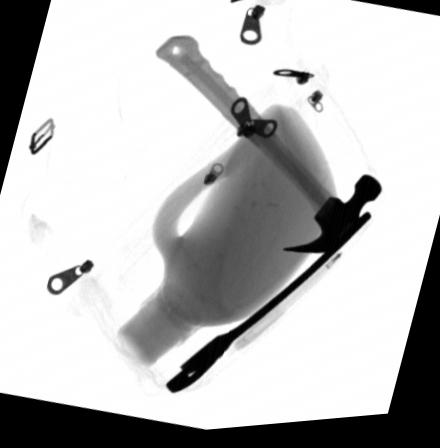Hammer: (154, 39, 381, 260)
Wrench: (165, 217, 372, 397)
